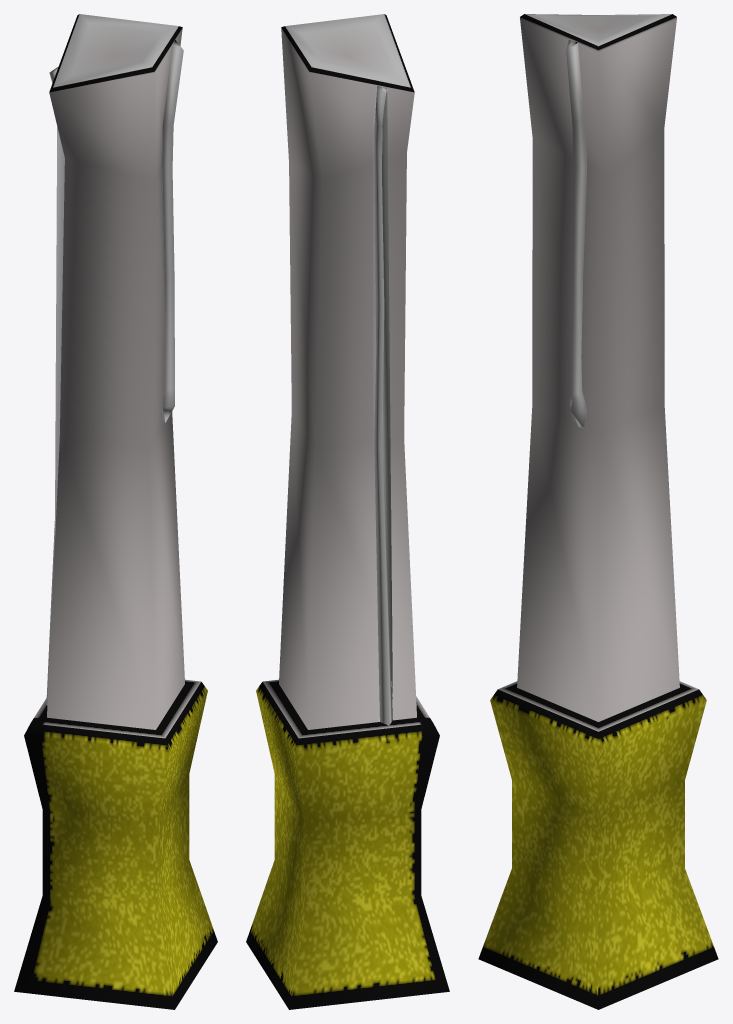
Rendered from candle2.fbx.
The picture shows the model from 3 angles, left to right: view 1: azimuth 30°, elevation 25°; view 2: azimuth 150°, elevation 25°; view 3: azimuth 270°, elevation 25°; orthographic projection. The views are drawn at different scales.
Visible parts, largest first — view 1: candle2; view 2: candle2; view 3: candle2.
Boxes of the visible parts, <box> form: candle2: <box>14,14,217,1009</box>; candle2: <box>246,14,449,1009</box>; candle2: <box>478,14,718,1009</box>.
Size of the model in its own units: 8.09 by 35.12 by 8.09.
